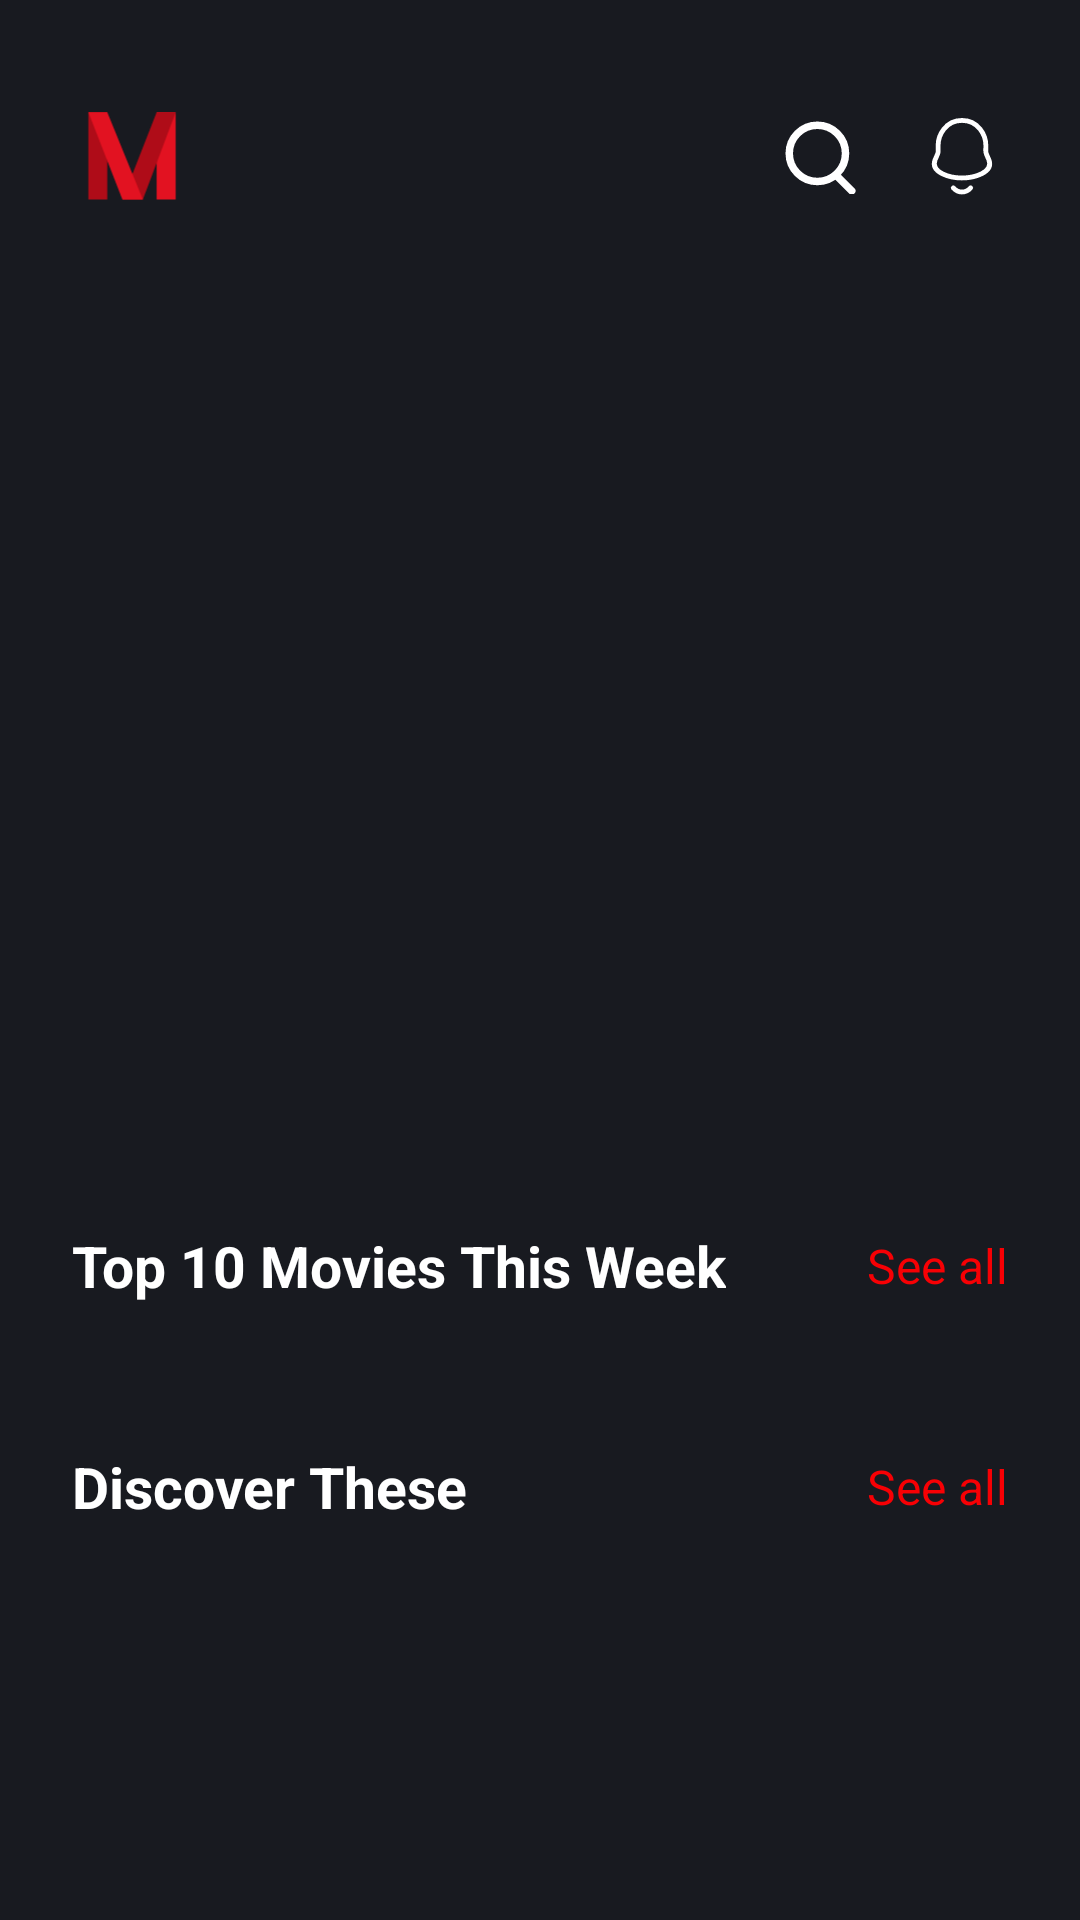

Icons on this 1080 × 1920 Android screen, each with the point to tap as (x,y):
bell: (961,156)
search: (820,157)
